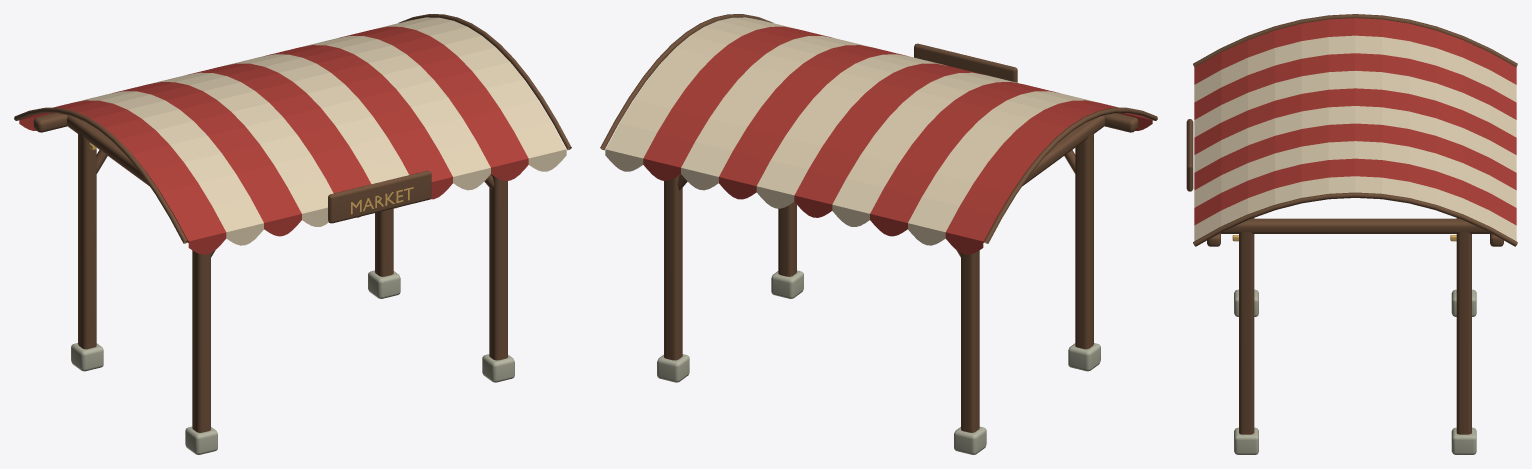
Rendered from market.glb.
The picture shows the model from 3 angles, left to right: view 1: azimuth 30°, elevation 25°; view 2: azimuth 150°, elevation 25°; view 3: azimuth 270°, elevation 25°; orthographic projection. The views are drawn at different scales.
Parts seen in each view (by area): view 1: market-exterior; view 2: market-exterior; view 3: market-exterior.
Part boxes in pixels (x1=…): market-exterior: x1=14, y1=14, x2=571, y2=454; market-exterior: x1=600, y1=14, x2=1157, y2=454; market-exterior: x1=1186, y1=14, x2=1517, y2=454.
Size of the model in its own units: 3.93 by 2.82 by 3.05.
